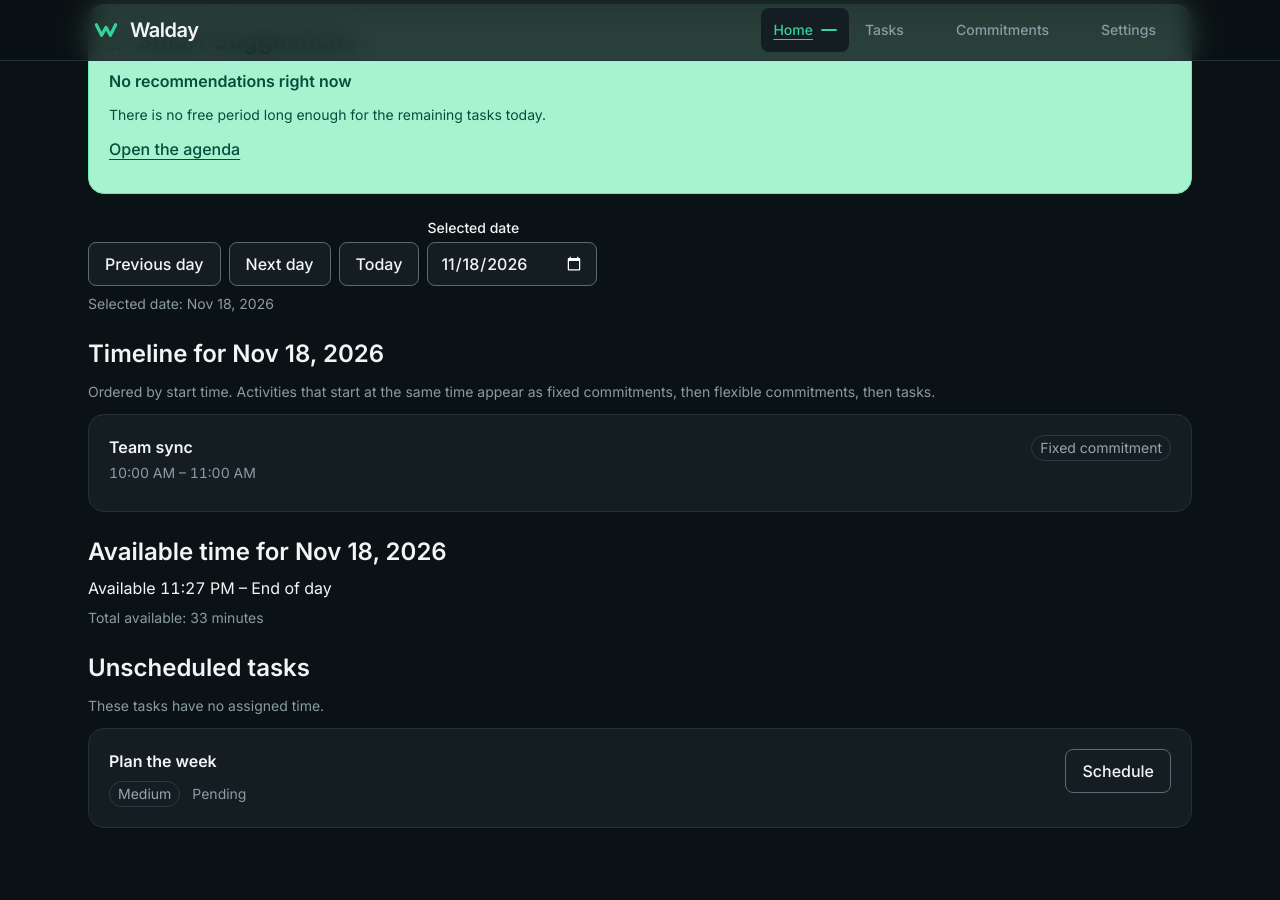
Test: scheduling conflict acknowledgment › clears the acknowledgment when the start time changes
(page scrolled)
Click the button "Schedule": (1118, 771) [1066,749,1171,793]
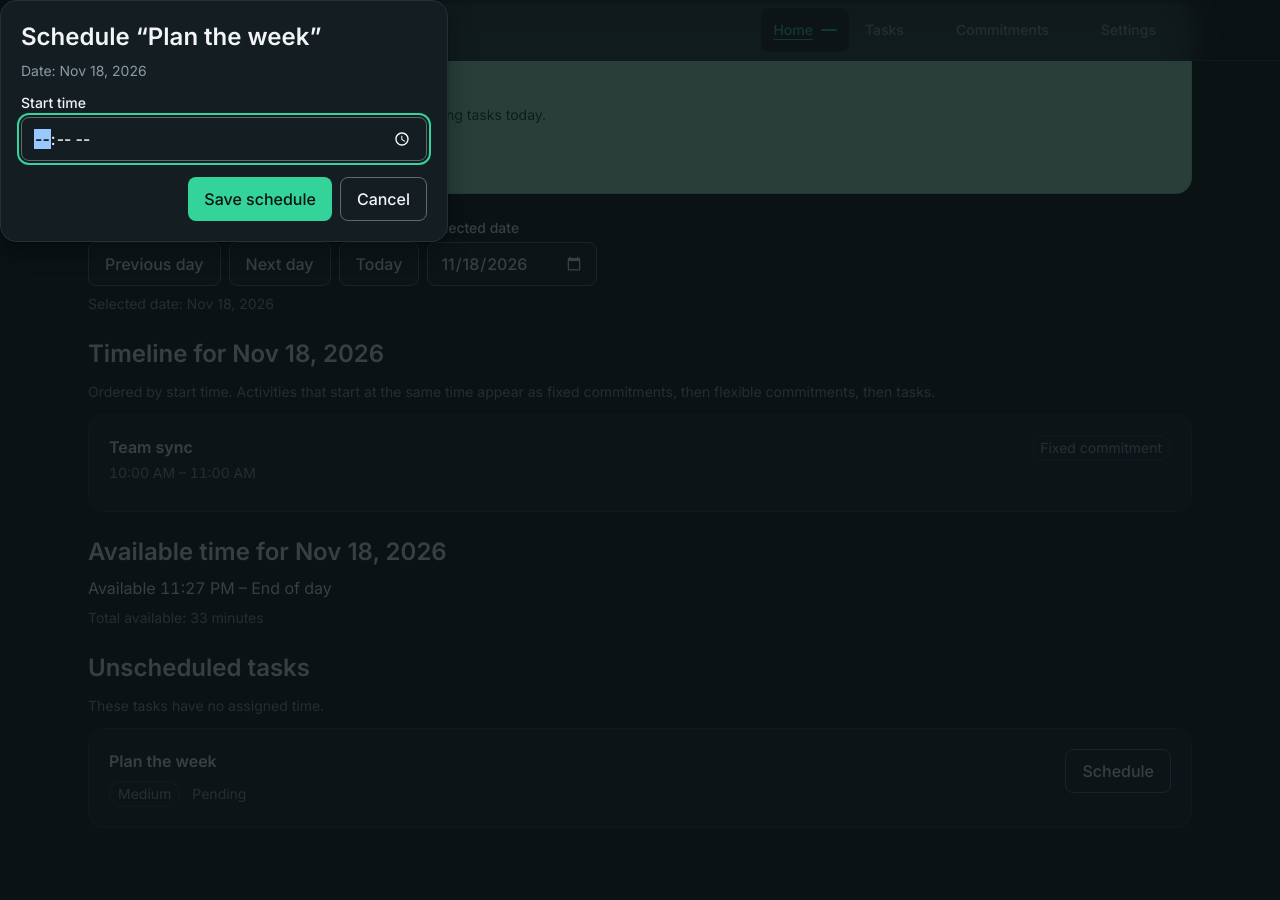
In the time field labelled "Start time": (224, 139) [21,117,427,161], type "10:30"
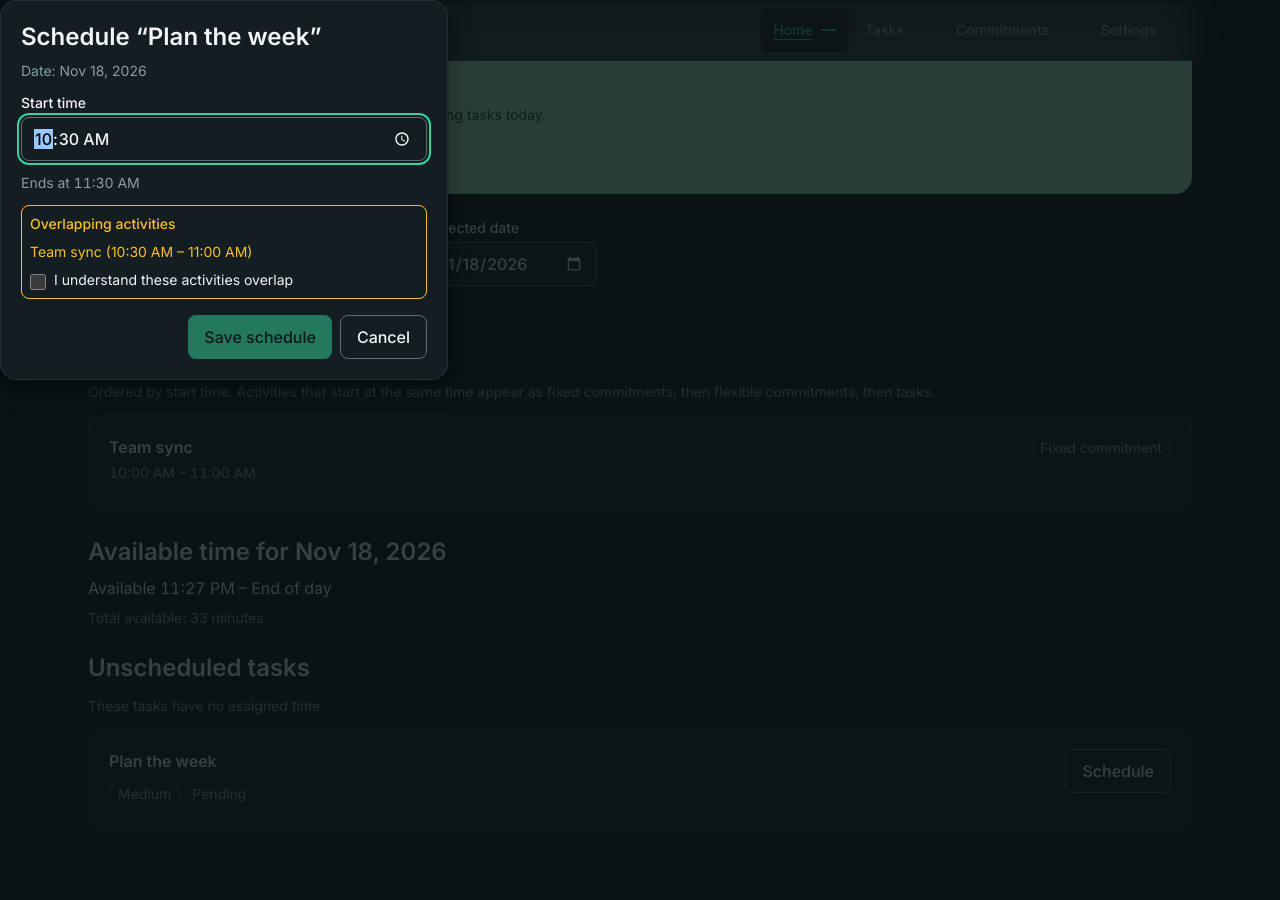
Click the checkbox labelled "I understand these activities overlap": (38, 282) [30,274,46,290]
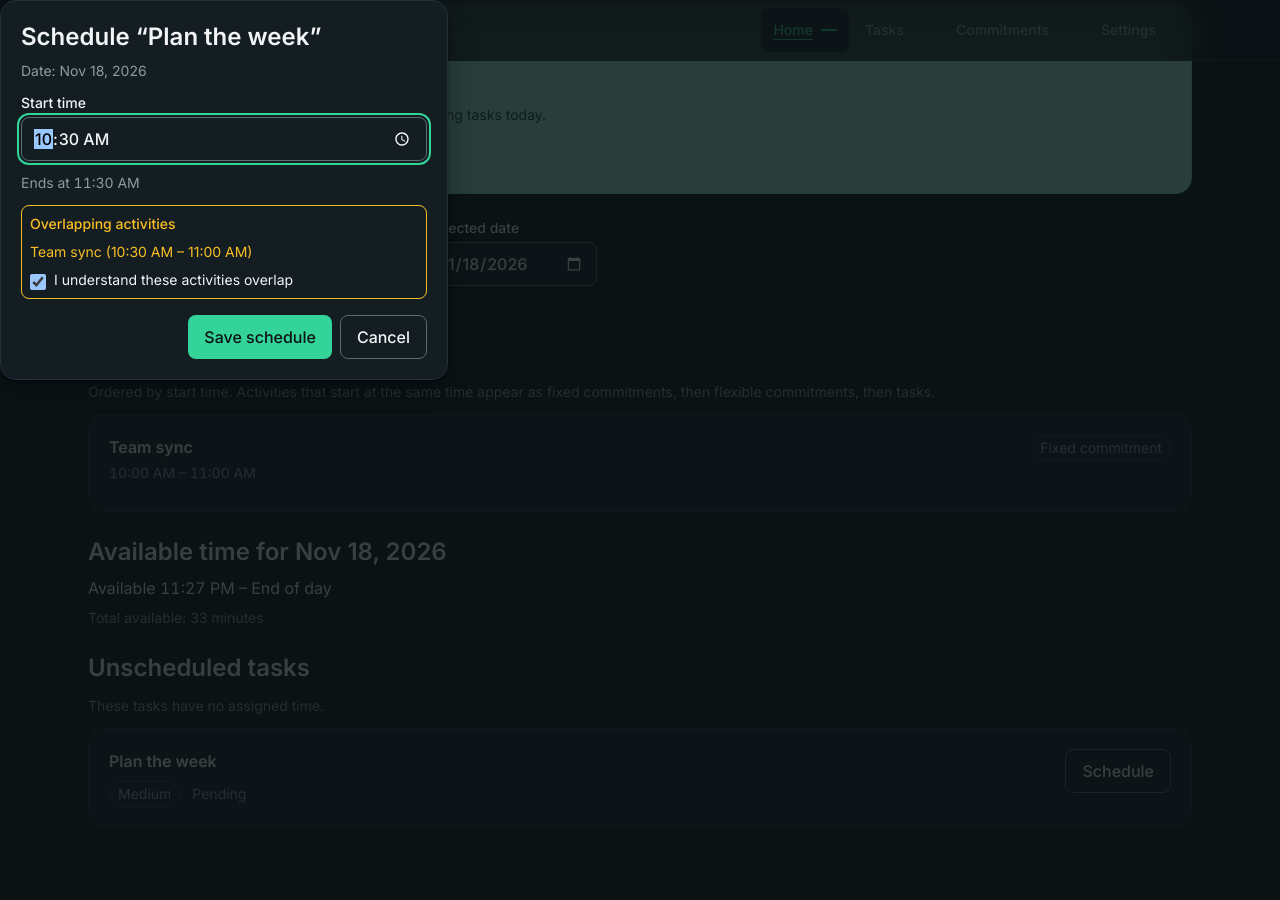
expect the checkbox labelled "I understand these activities overlap" is checked: met, box [30,274,46,290]
Replace the text in the time field labelled "Start time" with "10:45": (224, 139) [21,117,427,161]
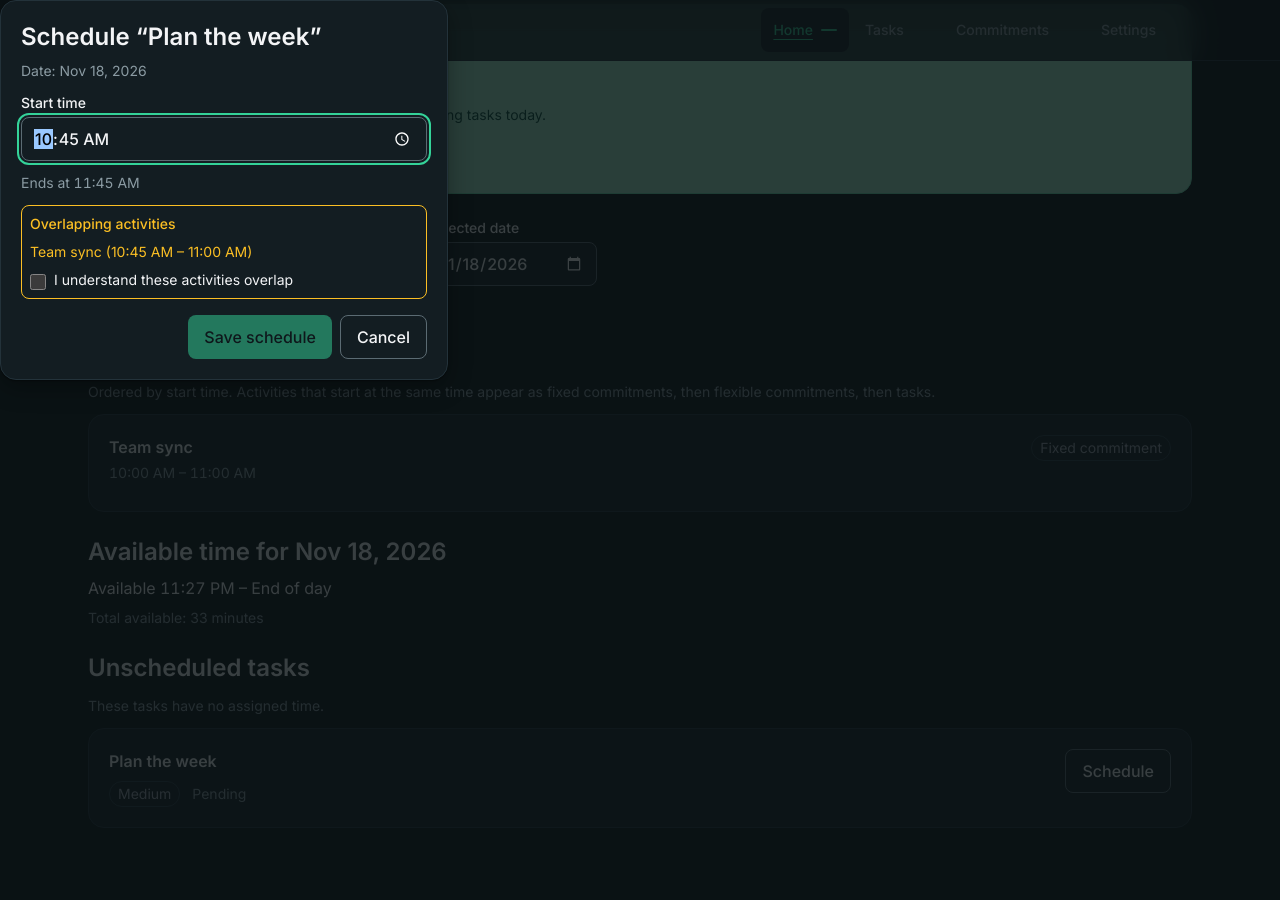
expect the checkbox labelled "I understand these activities overlap" is not checked: met, box [30,274,46,290]
expect the button "Save schedule" is disabled: met, box [188,315,332,359]
